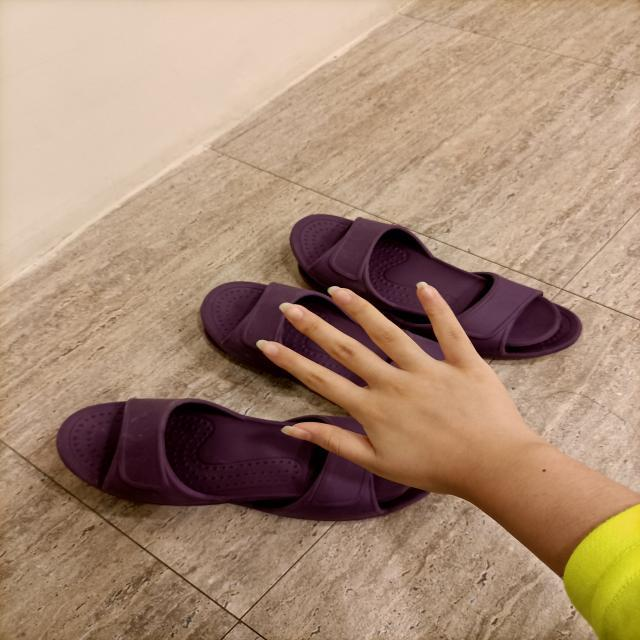Hand: (258, 274, 538, 516)
